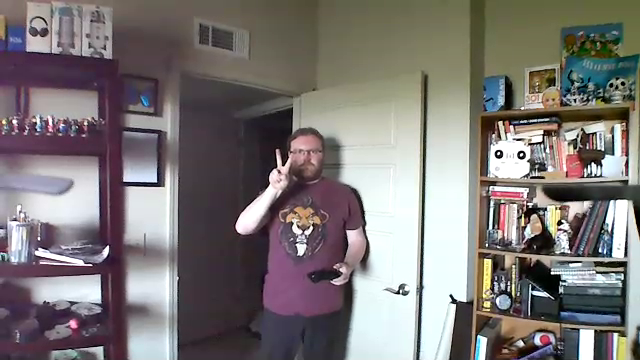peace: (265, 145, 295, 196)
